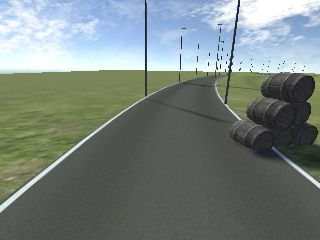strange_object: (225, 68, 319, 152)
